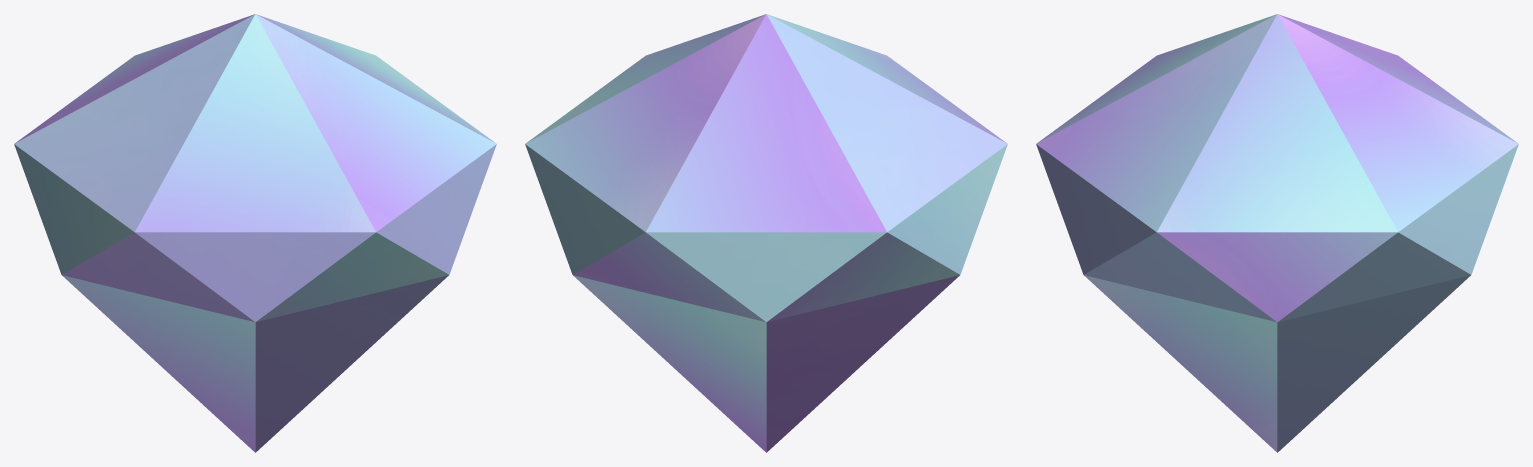
File: crystal.fbx
3 views of the same model, side by side, from view 1: azimuth 30°, elevation 25°; view 2: azimuth 150°, elevation 25°; view 3: azimuth 270°, elevation 25° (orthographic).
Visible parts, largest first — view 1: crystal; view 2: crystal; view 3: crystal.
Part boxes in pixels (<box>): crystal: <box>14,14,496,452</box>; crystal: <box>525,14,1007,452</box>; crystal: <box>1036,14,1518,452</box>.
Size of the model in its own units: 42.57 by 46.04 by 45.9.
Materials: 1 (1 with a texture image).
